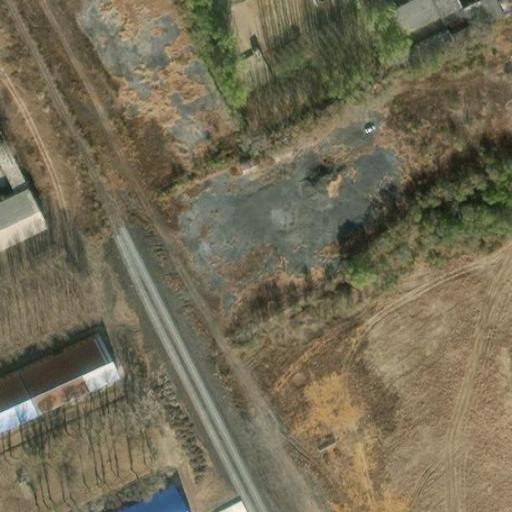building: (0, 188, 40, 244), (413, 22, 465, 61), (124, 483, 190, 512), (380, 0, 441, 25), (212, 496, 250, 512)
